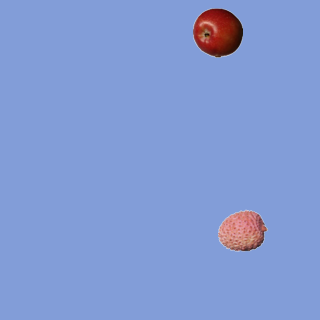Apple Braeburn: (192, 7, 242, 57)
Lychee: (217, 205, 267, 255)
